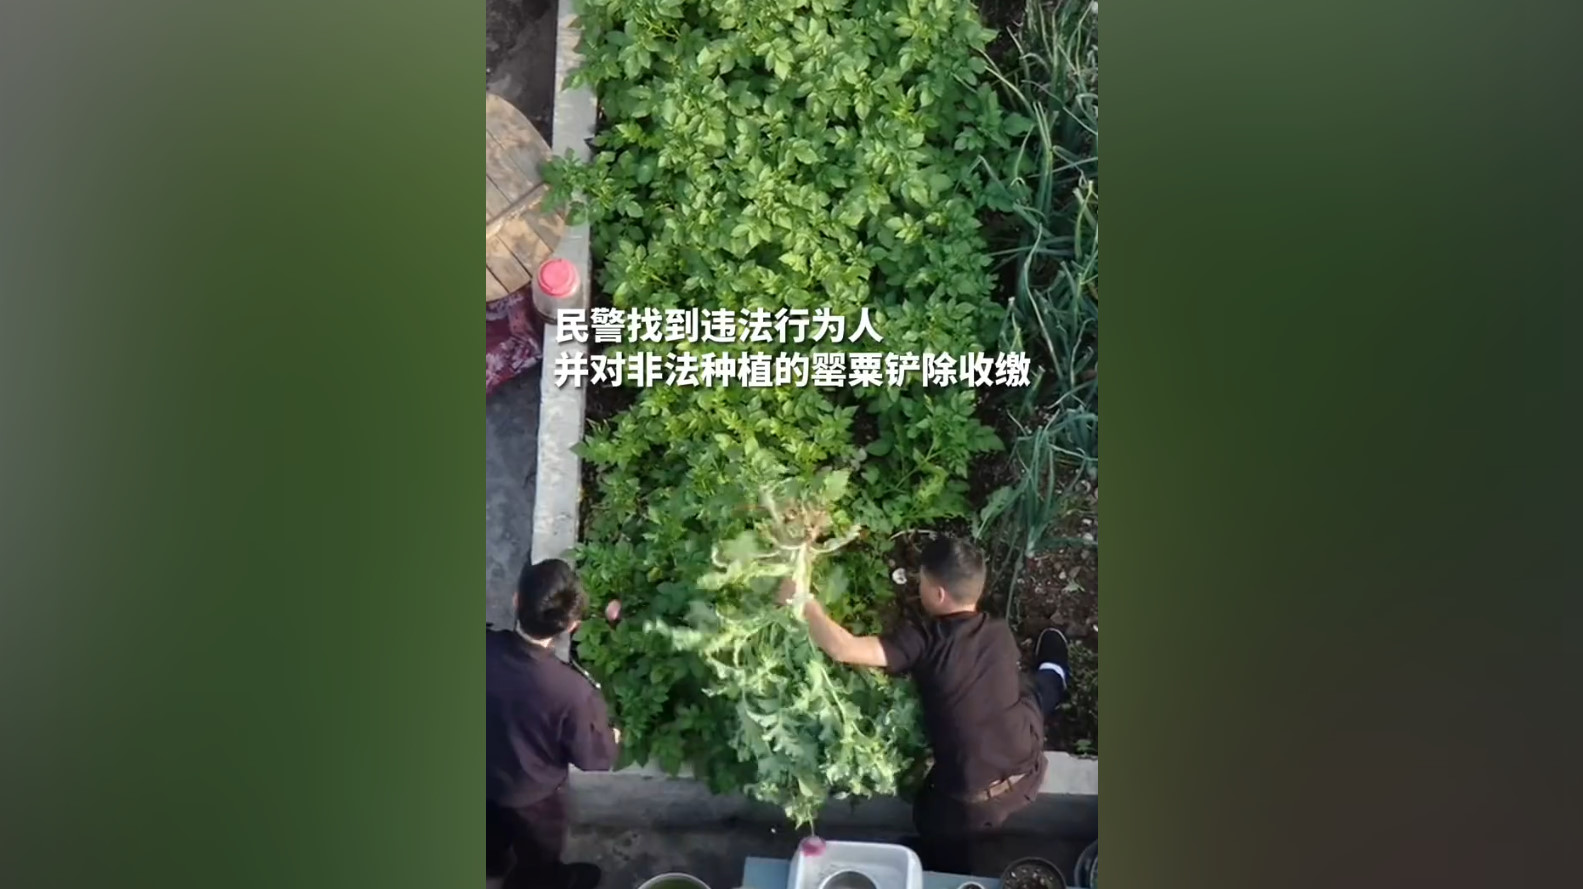Poppy: (600, 481, 921, 823)
